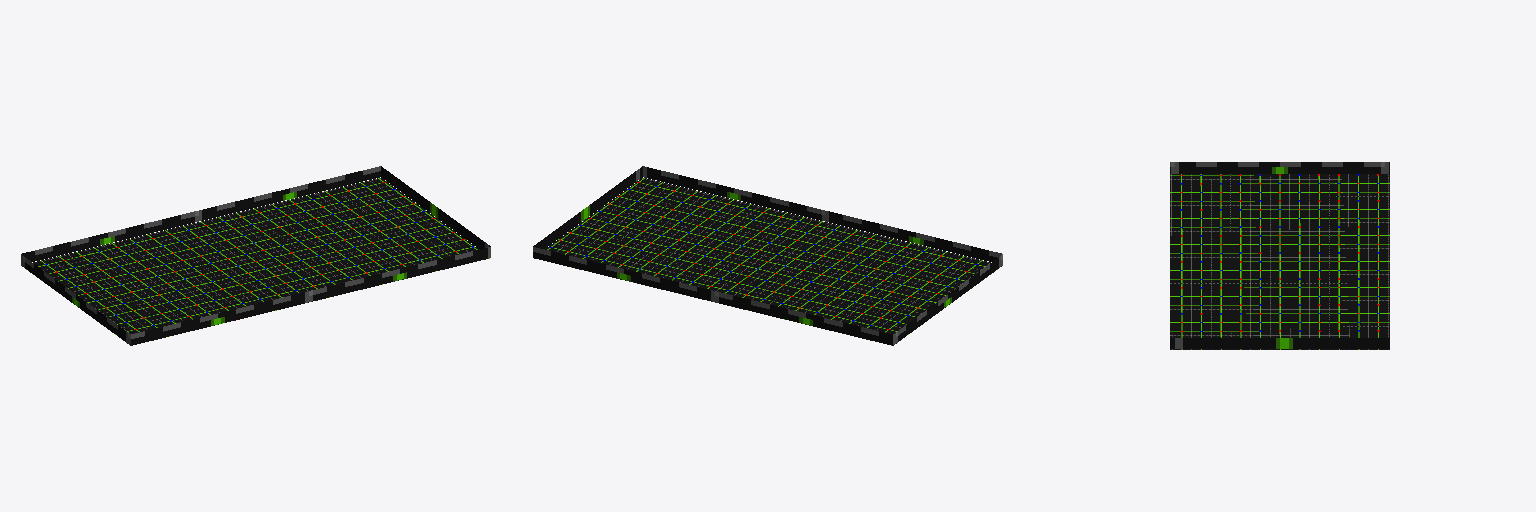
3 views of the same model, side by side, from view 1: azimuth 30°, elevation 25°; view 2: azimuth 150°, elevation 25°; view 3: azimuth 270°, elevation 25° (orthographic).
Visible parts, largest first — view 1: Cube; view 2: Cube; view 3: Cube.
Part boxes in pixels (bbox=[...]): Cube: bbox=[21, 166, 490, 345]; Cube: bbox=[533, 166, 1002, 345]; Cube: bbox=[1170, 162, 1389, 349].
Size of the model in its own units: 67.33 by 2.05 by 35.65.
1 materials, 1 textured.